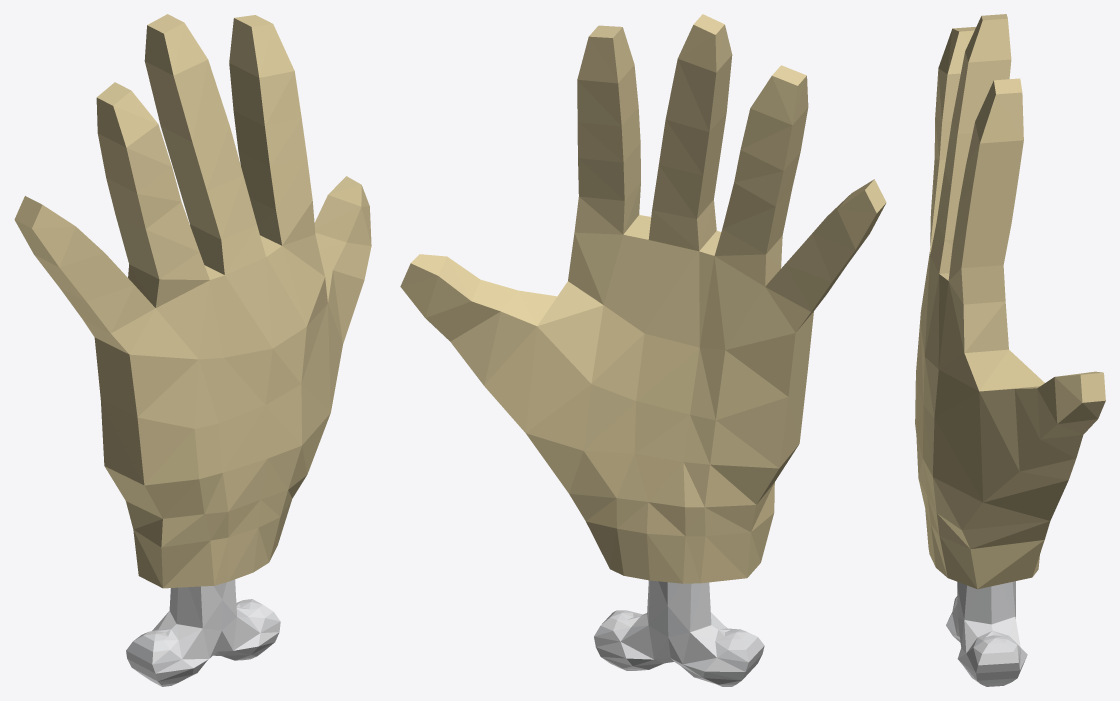
Rendered from Hand.fbx.
3 views of the same model, side by side, from view 1: azimuth 30°, elevation 25°; view 2: azimuth 150°, elevation 25°; view 3: azimuth 270°, elevation 25° (orthographic). The views are drawn at different scales.
Visible parts, largest first — view 1: Hand; view 2: Hand; view 3: Hand.
Part boxes in pixels (x1,y1,x2,y2): Hand: [14, 14, 371, 686]; Hand: [400, 14, 886, 686]; Hand: [915, 14, 1105, 686].
Bounding box in the file's own units: 1.65 × 2.53 × 0.6897.
